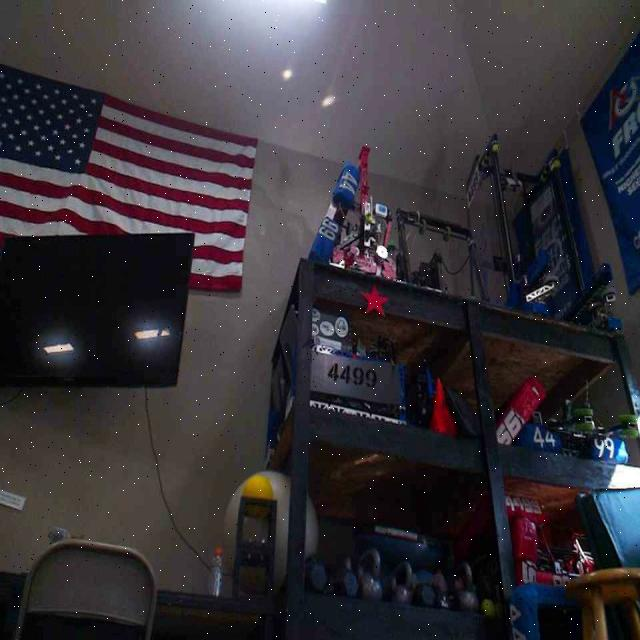star_red: (362, 284, 386, 314)
